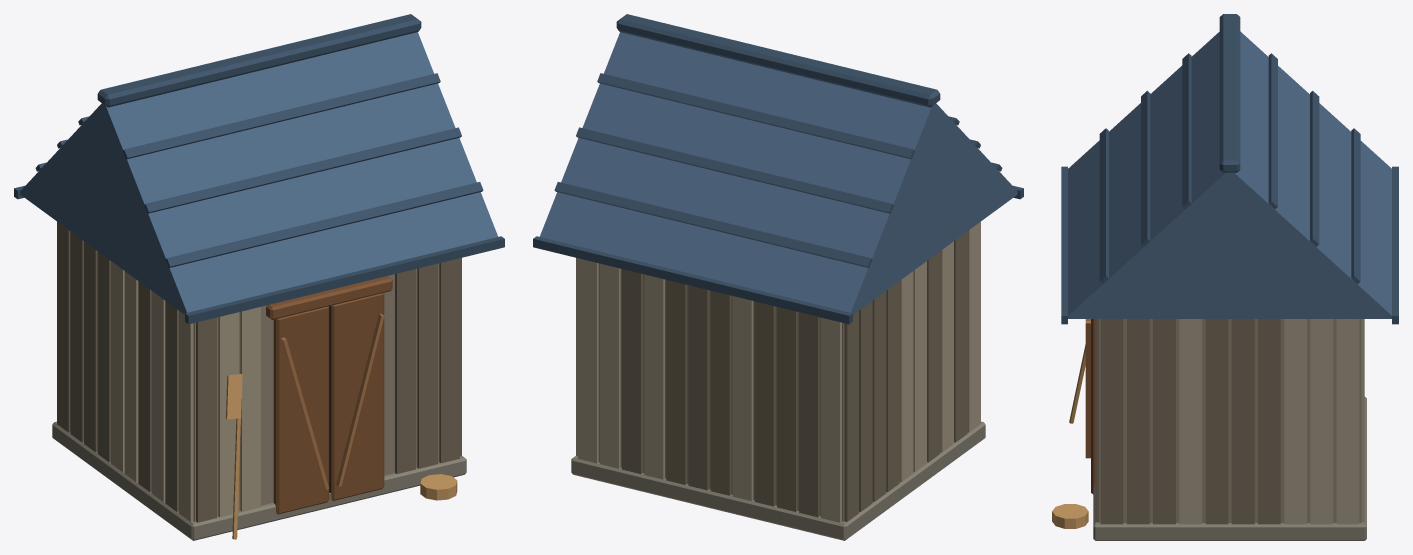
File: workshop.glb
3 renders of one model, left to right at view 1: azimuth 30°, elevation 25°; view 2: azimuth 150°, elevation 25°; view 3: azimuth 270°, elevation 25°, orthographic. The views are drawn at different scales.
Parts seen in each view (by area): view 1: workshop, door, door_r; view 2: workshop; view 3: workshop, door_r.
Part boxes in pixels (x1=…): workshop: x1=14, y1=14, x2=504, y2=540; door: x1=273, y1=306, x2=329, y2=514; door_r: x1=331, y1=293, x2=384, y2=500; workshop: x1=533, y1=14, x2=1023, y2=540; workshop: x1=1052, y1=14, x2=1398, y2=540; door_r: x1=1085, y1=319, x2=1095, y2=494.
Bounding box in the file's own units: 3.1 × 3.77 × 3.04.
